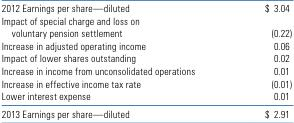table: (0, 1, 290, 119)
table column: (0, 1, 229, 119), (229, 1, 290, 119)
table row: (0, 13, 290, 39), (0, 89, 290, 104), (0, 104, 290, 119), (0, 51, 290, 64), (0, 76, 290, 89), (0, 1, 290, 13), (0, 39, 290, 51), (0, 64, 290, 76)
